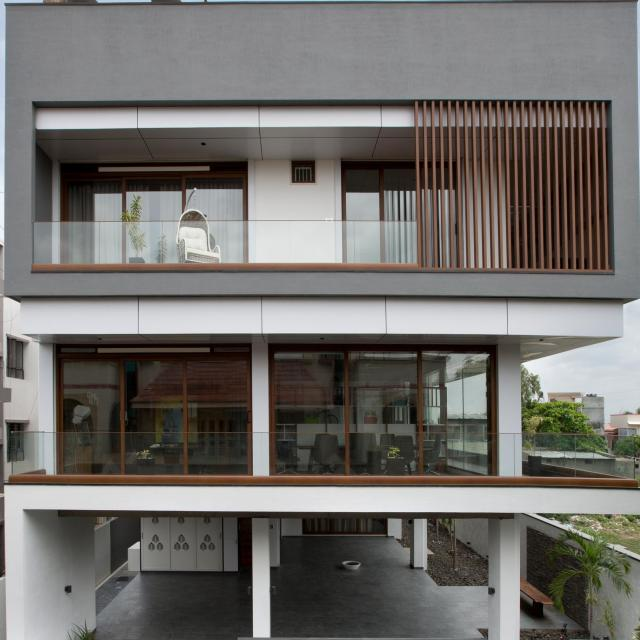Railing: (8, 430, 634, 482), (31, 221, 421, 265)
plant: (549, 527, 635, 627), (522, 372, 590, 429)
wall: (1, 0, 640, 640)
windows: (270, 347, 496, 430), (59, 345, 251, 428), (62, 165, 250, 222), (343, 162, 417, 222)
